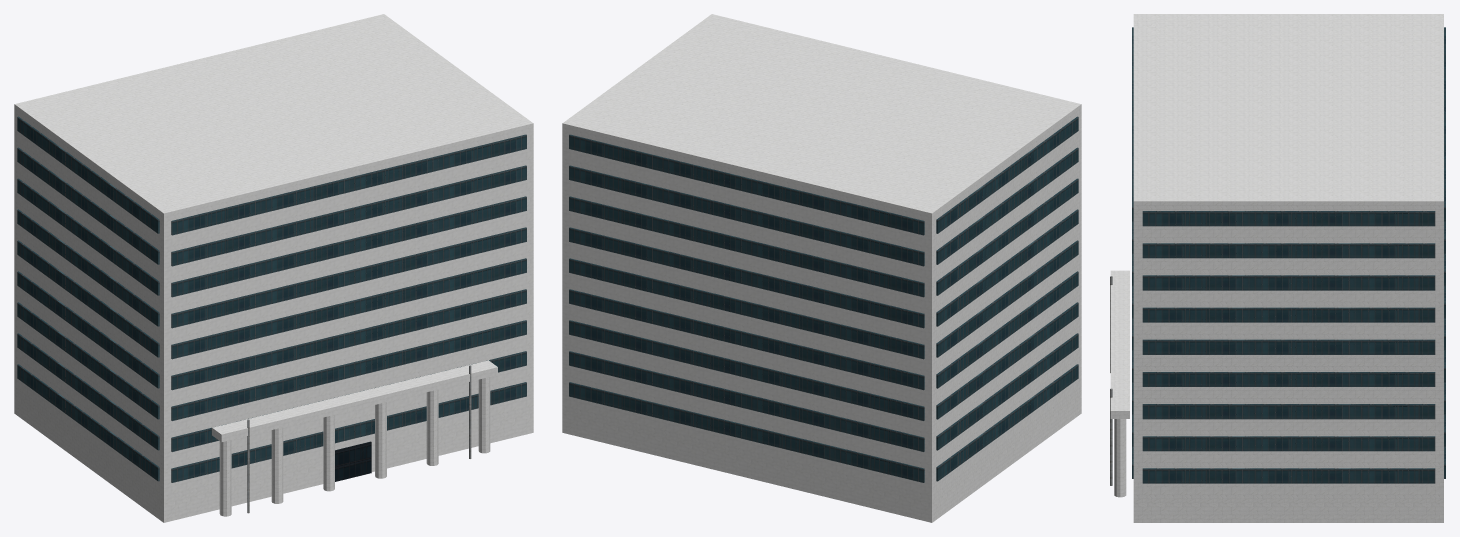
The model's file is civic-office-annex_lod0.gltf.
3 renders of one model, left to right at view 1: azimuth 30°, elevation 25°; view 2: azimuth 150°, elevation 25°; view 3: azimuth 270°, elevation 25°, orthographic. The views are drawn at different scales.
Parts seen in each view (by area): view 1: civic-office-annex_main, civic-office-annex_fen_07-glass-curtain-blue_0, civic-office-annex_colonnade, civic-office-annex_fen_07-glass-curtain-blue_1_t; view 2: civic-office-annex_main, civic-office-annex_fen_07-glass-curtain-blue_0; view 3: civic-office-annex_main, civic-office-annex_fen_07-glass-curtain-blue_0, civic-office-annex_colonnade.
Boxes of the visible parts, left/top/right/bottom form: civic-office-annex_main: left=14, top=14, right=533, bottom=522; civic-office-annex_fen_07-glass-curtain-blue_0: left=17, top=116, right=526, bottom=482; civic-office-annex_colonnade: left=212, top=360, right=497, bottom=516; civic-office-annex_fen_07-glass-curtain-blue_1_t: left=335, top=441, right=371, bottom=481; civic-office-annex_main: left=562, top=14, right=1081, bottom=522; civic-office-annex_fen_07-glass-curtain-blue_0: left=569, top=116, right=1078, bottom=482; civic-office-annex_main: left=1133, top=14, right=1443, bottom=522; civic-office-annex_fen_07-glass-curtain-blue_0: left=1132, top=27, right=1445, bottom=483; civic-office-annex_colonnade: left=1110, top=270, right=1129, bottom=497.
Size of the model in its own units: 50.4 by 40 by 37.85.
